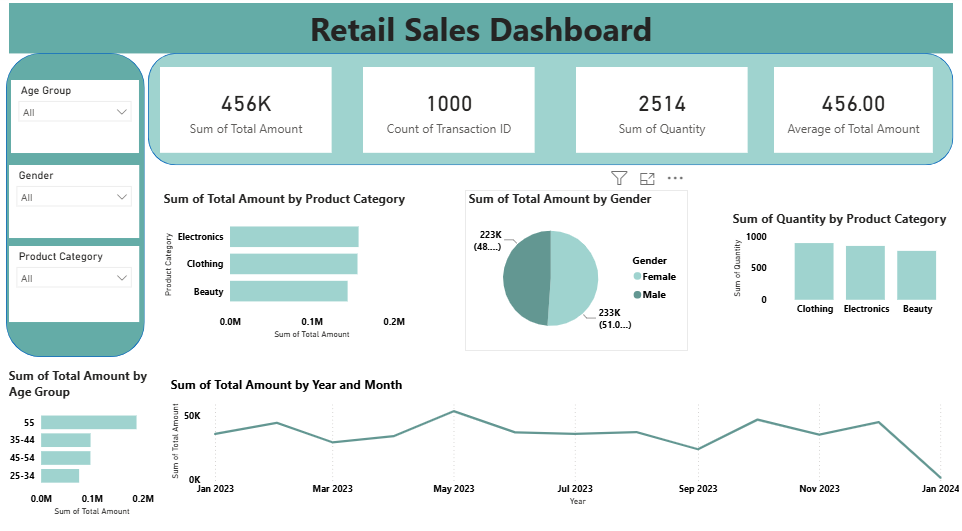

The dashboard page shown, as its layout file describes it:
{"tool":"powerbi","page":{"name":"Retail Sales","canvas":[1280,720],"ordinal":0},"visuals":[{"type":"textbox","box":[13.2,10.2,1254.1,67.3],"z":0},{"type":"shape","box":[197.6,77.6,1069.8,149.3],"z":1000},{"type":"card","fields":{"Values":["Sum(Sheet1.Total Amount)"]},"box":[234.1,95.1,228.3,114.1],"z":2000},{"type":"card","fields":{"Values":["CountNonNull(Sheet1.Transaction ID)"]},"box":[504.9,95.1,228.3,114.1],"z":3000},{"type":"card","fields":{"Values":["Sum(Sheet1.Quantity)"]},"box":[777.1,95.1,228.3,114.1],"z":4000},{"type":"card","fields":{"Values":["Avg(Sheet1.Total Amount)"]},"box":[1039,95.1,228.3,114.1],"z":5000},{"type":"clusteredBarChart","fields":{"Category":["Sheet1.Product Category"],"Y":["Sum(Sheet1.Total Amount)"]},"box":[213.7,259,330.7,202],"z":6000},{"type":"pieChart","fields":{"Y":["Sum(Sheet1.Total Amount)"],"Category":["Sheet1.Gender"]},"box":[619,259,295.6,213.7],"z":7000},{"type":"clusteredColumnChart","fields":{"Y":["Sum(Sheet1.Quantity)"],"Category":["Sheet1.Product Category"]},"box":[970.2,285.4,310.2,149.3],"z":8000},{"type":"lineChart","fields":{"Y":["Sum(Sheet1.Total Amount)"],"Category":["Sheet1.Date.Variation.Date Hierarchy.Year","Sheet1.Date.Variation.Date Hierarchy.Month"]},"box":[210.7,506.3,1069.8,177.1],"z":9000},{"type":"clusteredBarChart","fields":{"Category":["Sheet1.Age Group"],"Y":["Sum(Sheet1.Total Amount)"]},"box":[8,494.2,203.2,201.9],"z":10000},{"type":"shape","box":[8.8,77.6,184.4,403.9],"z":14000},{"type":"slicer","fields":{"Values":["Sheet1.Age Group"]},"box":[16.1,112.7,169.8,96.6],"z":15000},{"type":"slicer","fields":{"Values":["Sheet1.Gender"]},"box":[13.2,225.4,172.7,96.6],"z":15001},{"type":"slicer","fields":{"Values":["Sheet1.Product Category"]},"box":[13.2,333.7,172.7,101],"z":15002}]}

Visuals, with their boxes in screenshot pixels (x1, y1, x2, y2), scaled from the page's 1280x720 canvas onto the 962x531 screenshot:
textbox: detection(10, 8, 952, 57)
shape: detection(149, 57, 953, 167)
card - Sum(Sheet1.Total Amount): detection(176, 70, 348, 154)
card - CountNonNull(Sheet1.Transaction ID): detection(379, 70, 551, 154)
card - Sum(Sheet1.Quantity): detection(584, 70, 756, 154)
card - Avg(Sheet1.Total Amount): detection(781, 70, 952, 154)
clusteredBarChart - Sheet1.Product Category x Sum(Sheet1.Total Amount): detection(161, 191, 409, 340)
pieChart - Sum(Sheet1.Total Amount) x Sheet1.Gender: detection(465, 191, 687, 349)
clusteredColumnChart - Sum(Sheet1.Quantity) x Sheet1.Product Category: detection(729, 210, 961, 321)
lineChart - Sum(Sheet1.Total Amount) x Sheet1.Date.Variation.Date Hierarchy.Year: detection(158, 373, 961, 504)
clusteredBarChart - Sheet1.Age Group x Sum(Sheet1.Total Amount): detection(6, 364, 159, 513)
shape: detection(7, 57, 145, 355)
slicer - Sheet1.Age Group: detection(12, 83, 140, 154)
slicer - Sheet1.Gender: detection(10, 166, 140, 237)
slicer - Sheet1.Product Category: detection(10, 246, 140, 321)
